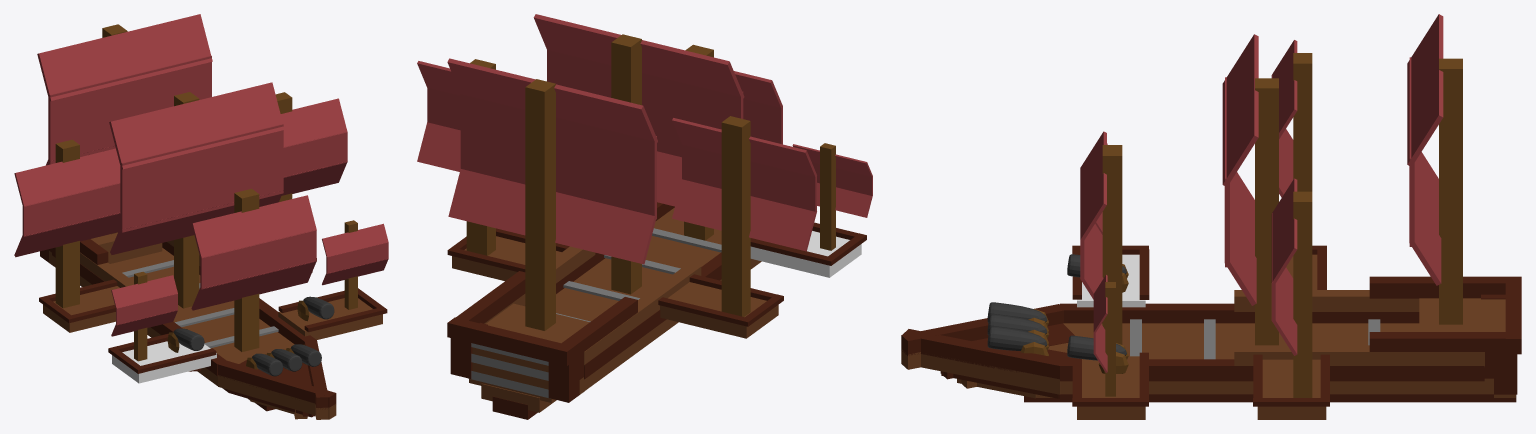
Rendered from boss.fbx.
The picture shows the model from 3 angles, left to right: view 1: azimuth 30°, elevation 25°; view 2: azimuth 150°, elevation 25°; view 3: azimuth 270°, elevation 25°; orthographic projection. The views are drawn at different scales.
Parts seen in each view (by area): view 1: Cube.003, Cube.006, Cube.038, Cube.039, Cube.025, Cube.005, Cube.026, Cube.098, Cube.097, Cube.024, Cube.007, Cube.084 (+36 smaller); view 2: Cube.039, Cube.037, Cube.040, Cube.003, Cube.005, Cube.096, Cube.038, Cube.006, Cube.099, Cube.097, Cube.019, Cube.002 (+37 smaller); view 3: Cube.005, Cube.040, Cube.002, Cube.015, Cube.018, Cube.006, Cube.038, Cube.086, Cube.051, Cube.027, Cube.017, Cube.037 (+31 smaller).
Part boxes in pixels (x1,y1,x2,y2): Cube.003: (120,124,283,232); Cube.006: (109,82,284,169); Cube.038: (37,14,212,101); Cube.039: (48,55,211,164); Cube.025: (191,195,316,258); Cube.005: (49,248,294,385); Cube.026: (200,230,316,289); Cube.098: (14,148,120,206); Cube.097: (22,183,120,236); Cube.024: (191,260,316,310); Cube.007: (110,190,283,254); Cube.084: (280,98,347,147); Cube.039: (460,94,656,219); Cube.037: (448,169,656,264); Cube.040: (525,79,555,330); Cube.003: (547,50,743,157); Cube.005: (556,208,761,394); Cube.096: (721,116,750,316); Cube.038: (447,58,657,143); Cube.006: (533,14,744,98); Cube.099: (672,179,816,251); Cube.097: (682,145,816,212); Cube.019: (469,303,589,402); Cube.002: (611,34,641,294); Cube.005: (1058,323,1493,394); Cube.040: (1439,58,1462,324); Cube.002: (1255,78,1278,345); Cube.015: (1060,359,1484,381); Cube.018: (1060,303,1419,323); Cube.006: (1222,34,1258,186); Cube.038: (1407,14,1443,166); Cube.086: (1293,191,1312,397); Cube.051: (1234,345,1484,366); Cube.027: (1102,145,1122,344); Cube.017: (903,329,1065,379); Cube.037: (1409,152,1441,285).
Bounding box in the file's own units: 4538 × 3439 × 5871.
